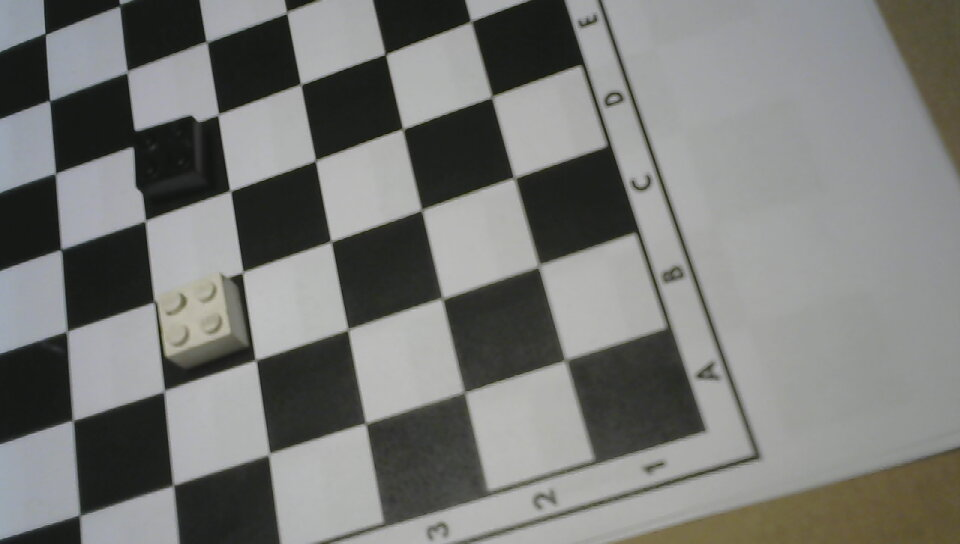bp: (126, 111, 215, 203)
